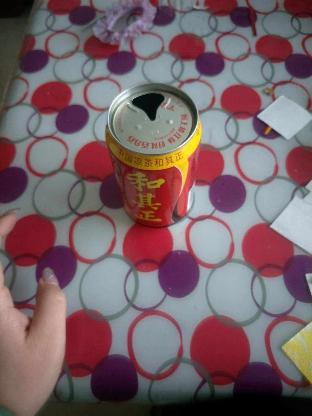Can: (106, 83, 202, 227)
